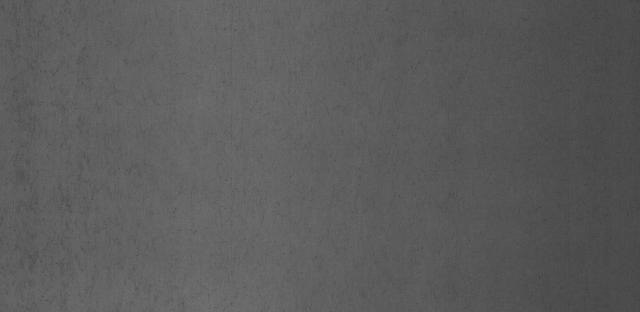silk_spot: (242, 43, 456, 214)
